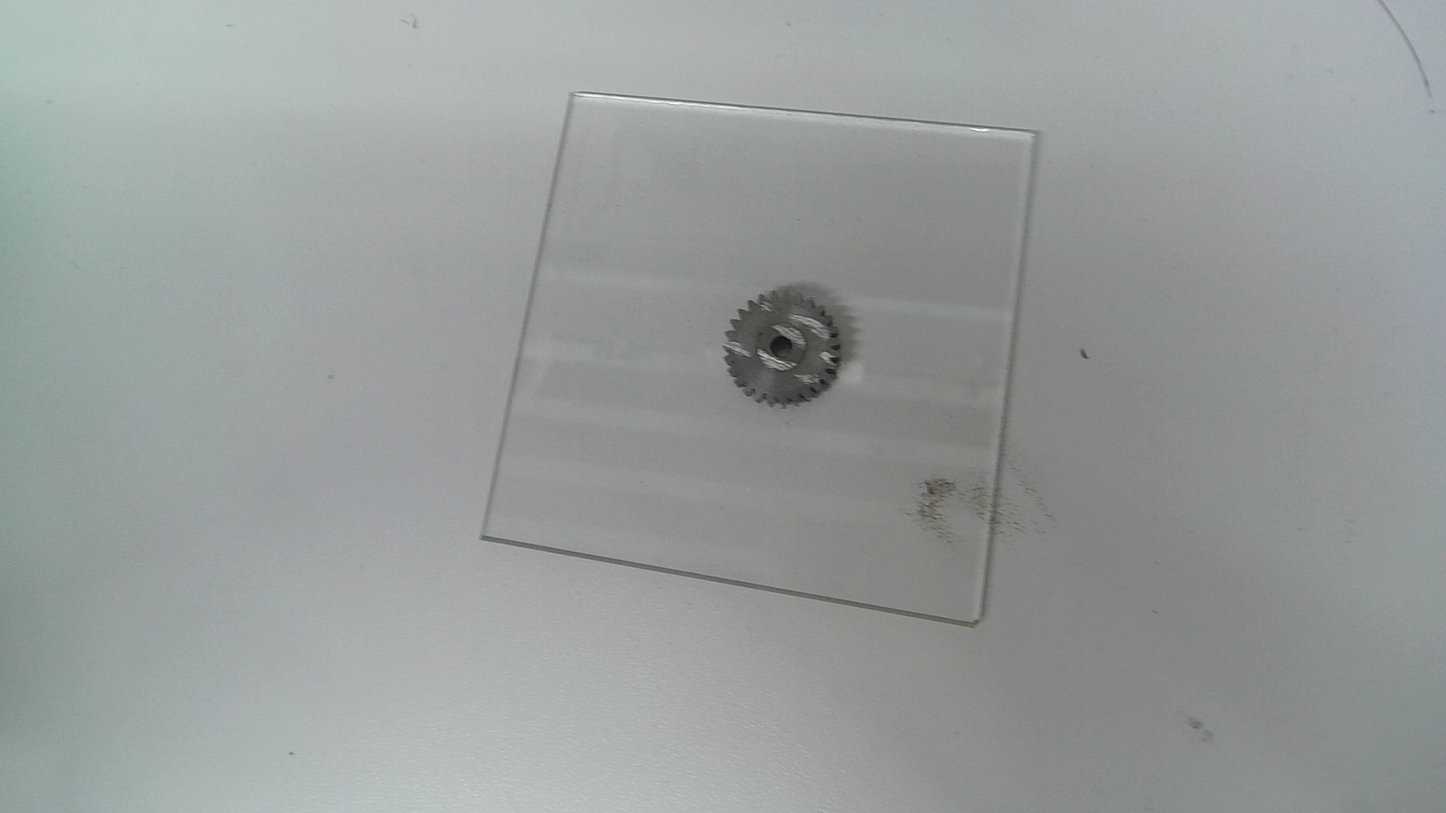gear: (721, 283, 844, 411)
